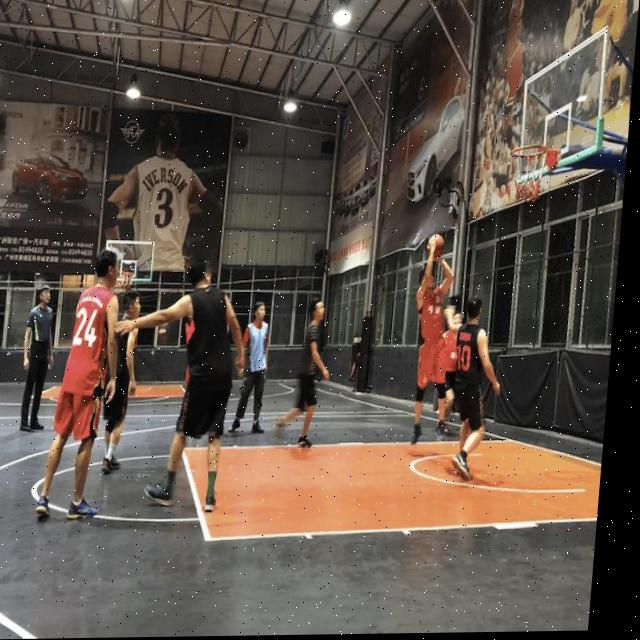basketball: (426, 233, 446, 259)
hoop: (505, 144, 548, 204), (120, 270, 135, 290)
